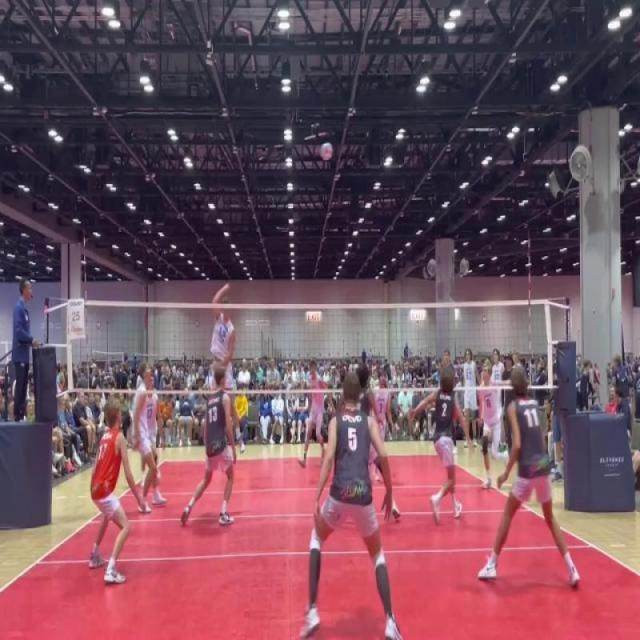volleyball: (318, 140, 334, 162)
